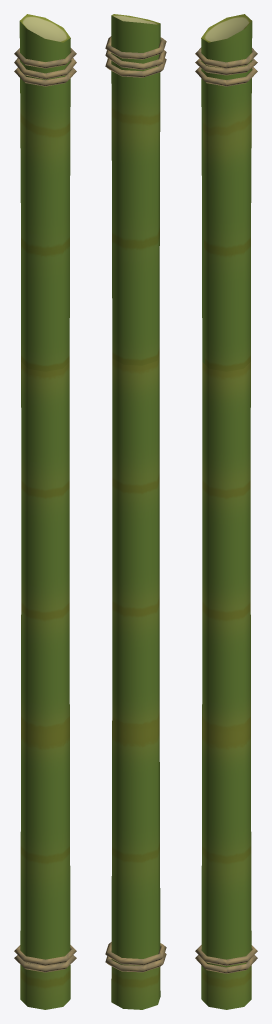
File: Bamboo_12.fbx
3 views of the same model, side by side, from view 1: azimuth 90°, elevation 25°; view 2: azimuth 150°, elevation 25°; view 3: azimuth 270°, elevation 25° (orthographic).
Visible parts, largest first — view 1: Bamboo_12_LOD0; view 2: Bamboo_12_LOD0; view 3: Bamboo_12_LOD0.
Boxes of the visible parts, bbox=[...] form: Bamboo_12_LOD0: bbox=[14, 14, 76, 1009]; Bamboo_12_LOD0: bbox=[105, 14, 166, 1009]; Bamboo_12_LOD0: bbox=[195, 14, 257, 1009].
Size of what is drawn, in the model's own units: 17.53 by 301 by 17.53.
